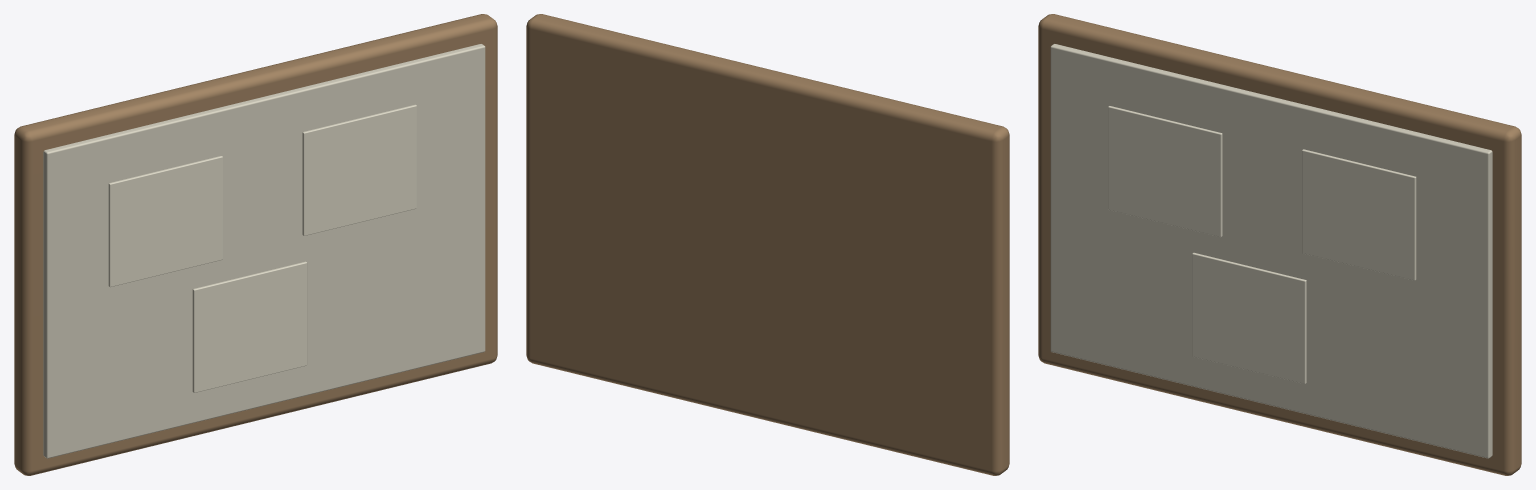
The model's file is NoticeBoard.fbx.
The picture shows the model from 3 angles, left to right: view 1: azimuth 30°, elevation 25°; view 2: azimuth 150°, elevation 25°; view 3: azimuth 330°, elevation 25°; orthographic projection.
Parts seen in each view (by area): view 1: Cork, Board frame, Pinned paper.002, Pinned paper.001, Pinned paper; view 2: Board frame; view 3: Cork, Board frame, Pinned paper.002, Pinned paper.001, Pinned paper.
Boxes of the visible parts, x1,y1,x2,y2 form: Cork: (43,44,485,458); Board frame: (14,14,497,475); Pinned paper.002: (192,261,307,392); Pinned paper.001: (302,104,416,235); Pinned paper: (108,156,222,287); Board frame: (526,14,1009,475); Cork: (1050,44,1492,458); Board frame: (1038,14,1521,475); Pinned paper.002: (1192,252,1306,383); Pinned paper.001: (1302,149,1416,280); Pinned paper: (1108,106,1222,237).
Size of the model in its own units: 130 by 90 by 9.45.
